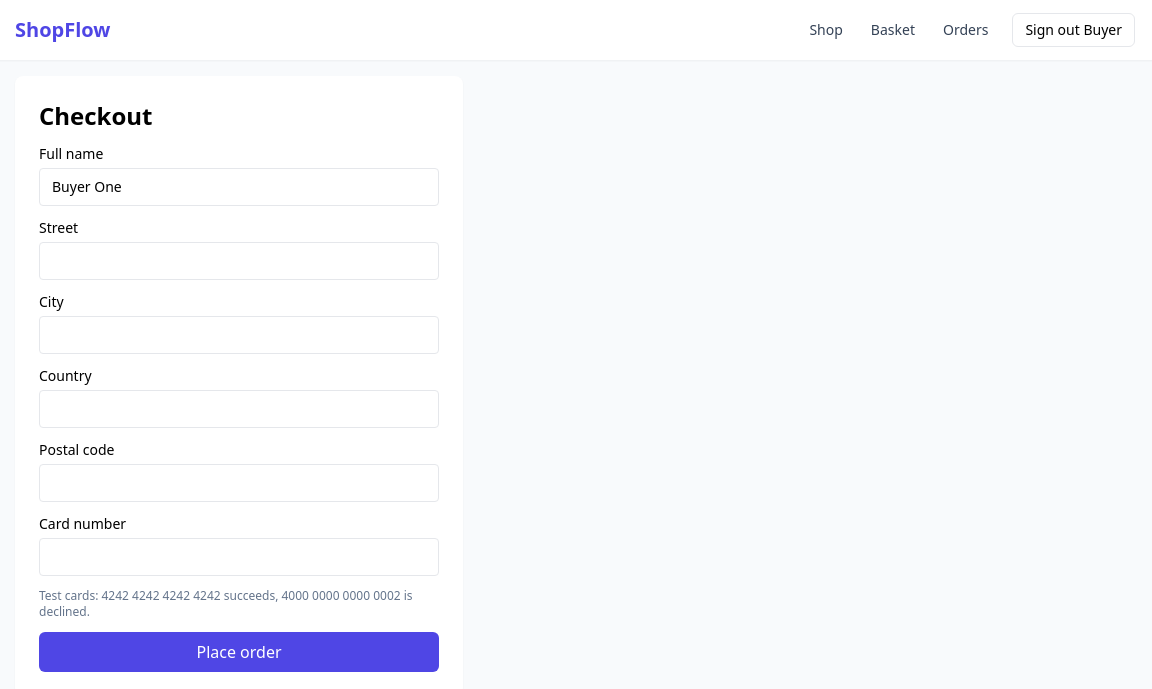
basket and checkout › places an order and follows it to confirmation
Step 1. Type "1 Main" into the field labelled "Street" → (239, 261), box [39,242,439,280]
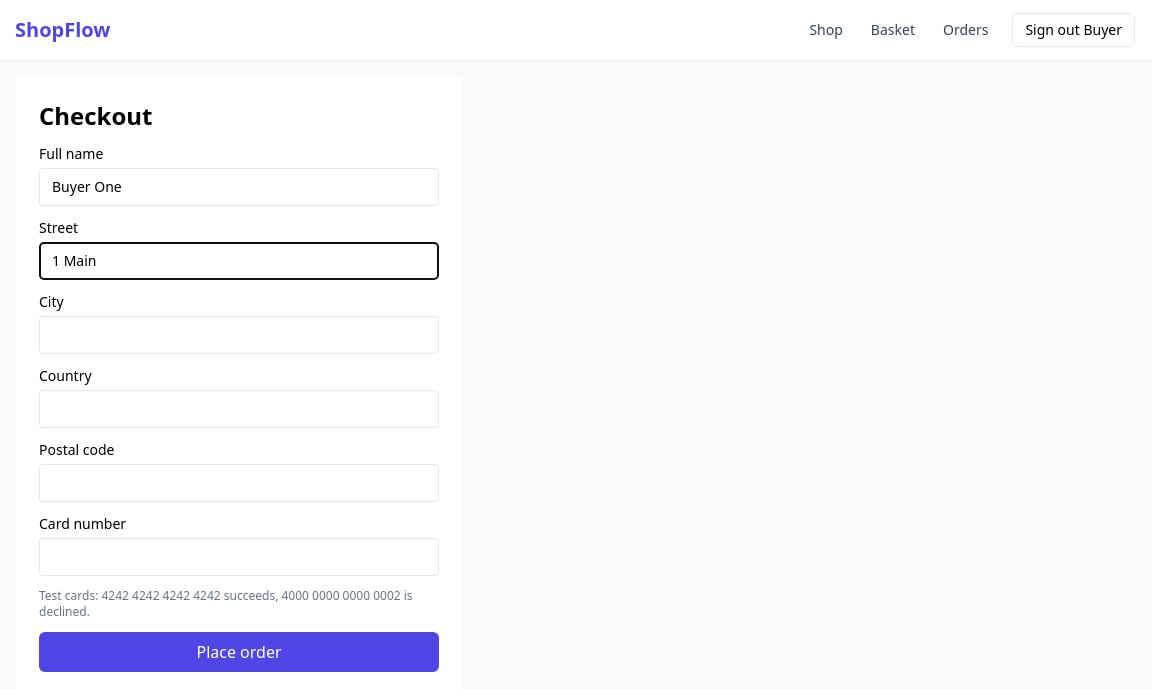
Step 2. Type "Isb" into the field labelled "City" → (239, 335), box [39,316,439,354]
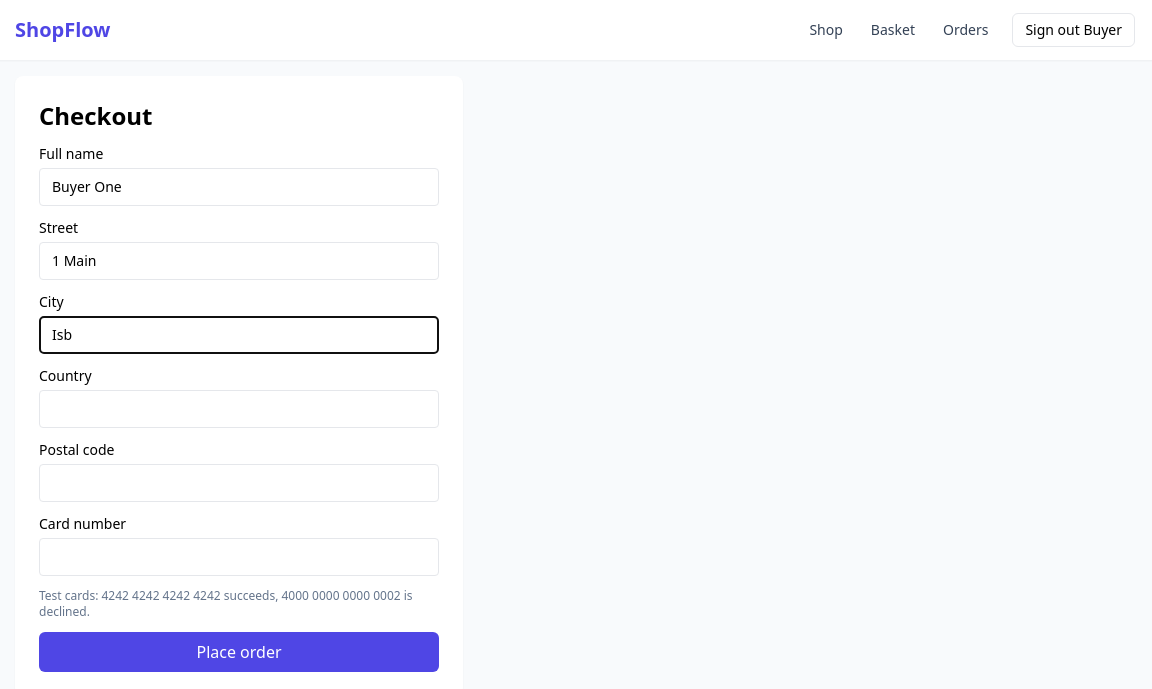
Step 3. Type "PK" into the field labelled "Country" → (239, 409), box [39,390,439,428]
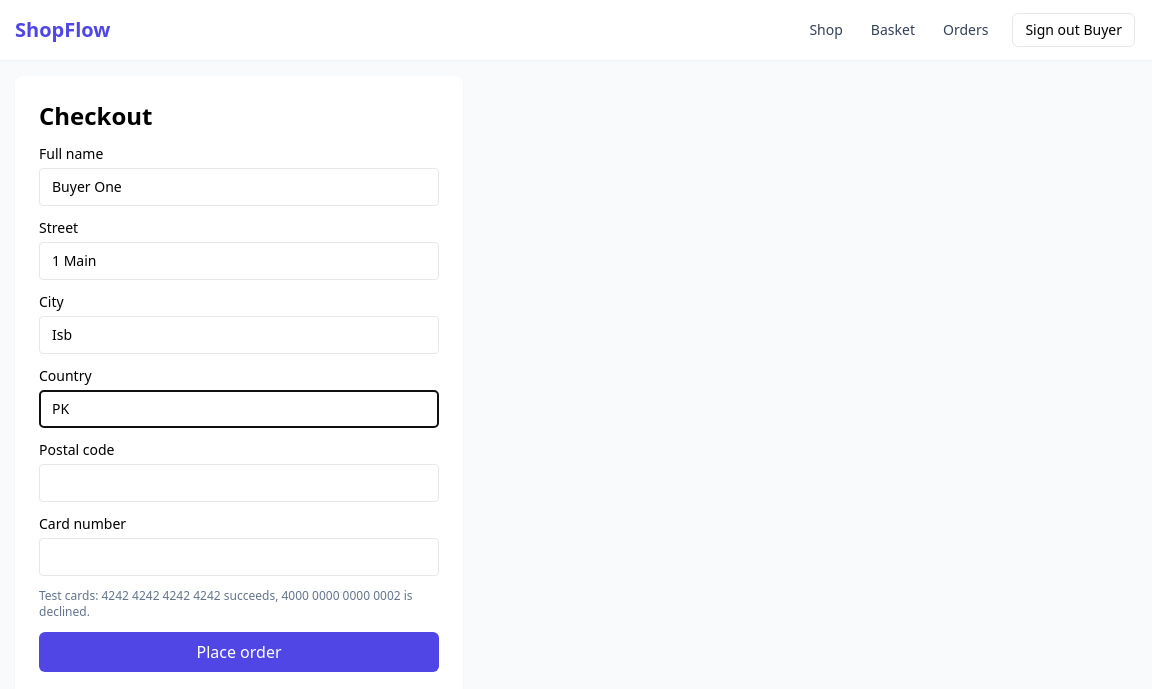
Step 4. Type "44000" into the field labelled "Postal code" → (239, 483), box [39,464,439,502]
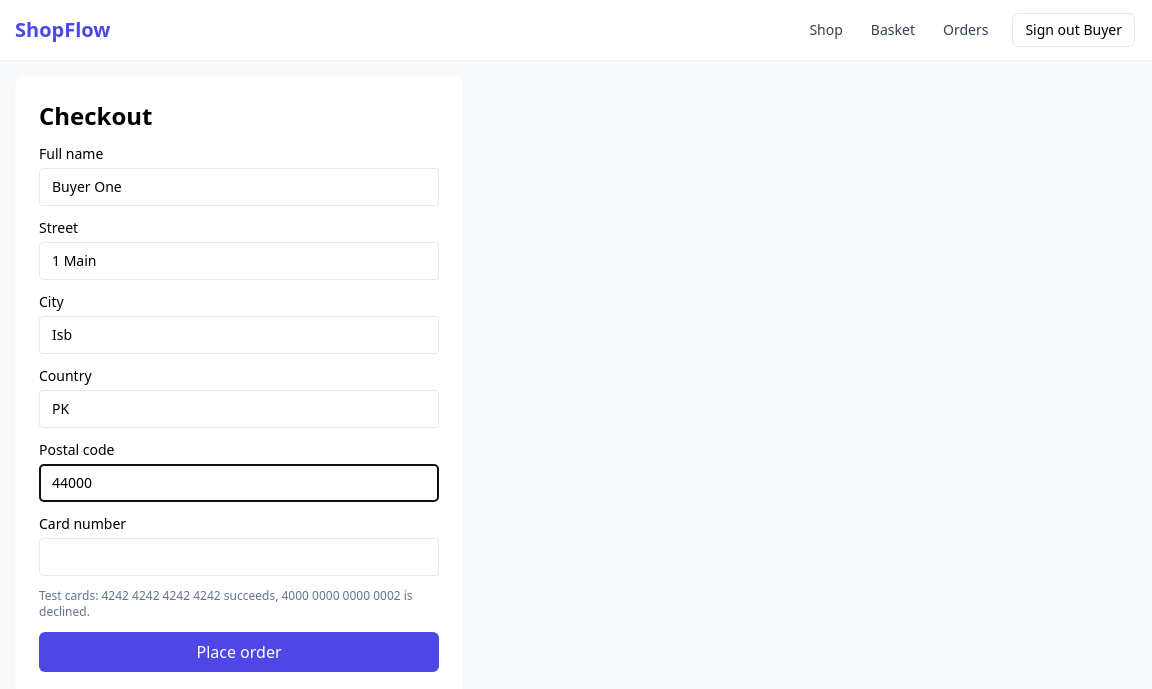
Step 5. Type "4242 4242 4242 4242" into the field labelled "Card number" → (239, 557), box [39,538,439,576]
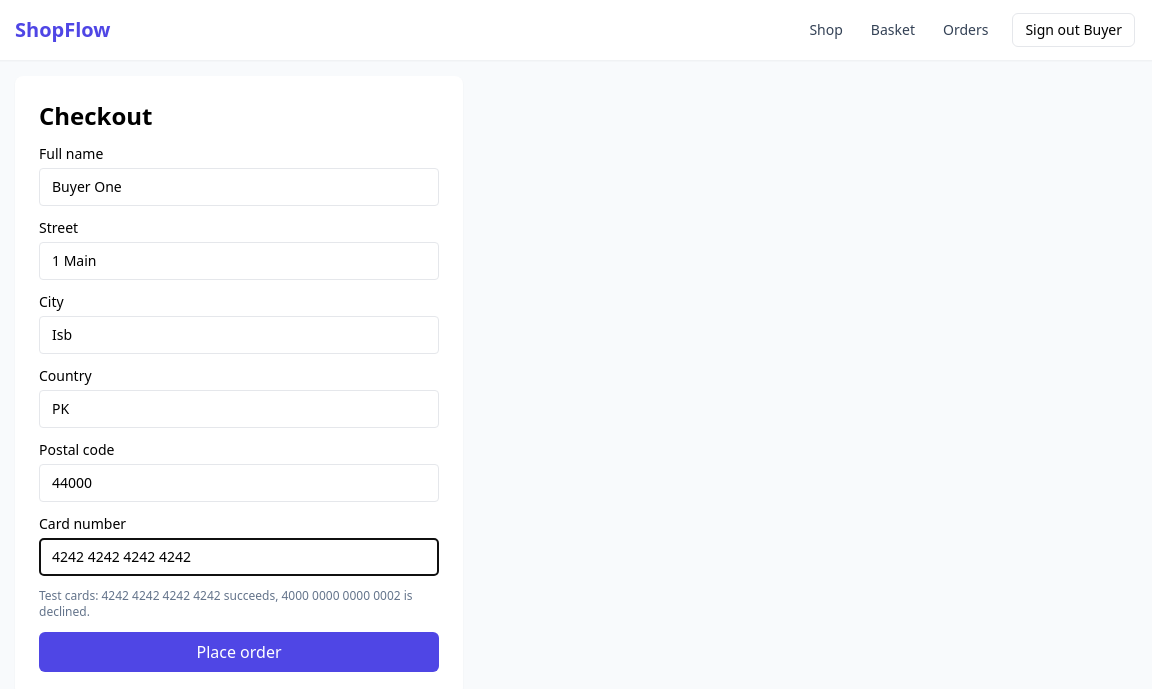
Step 6. Click the button "Place order" → (239, 652), box [39,632,439,672]
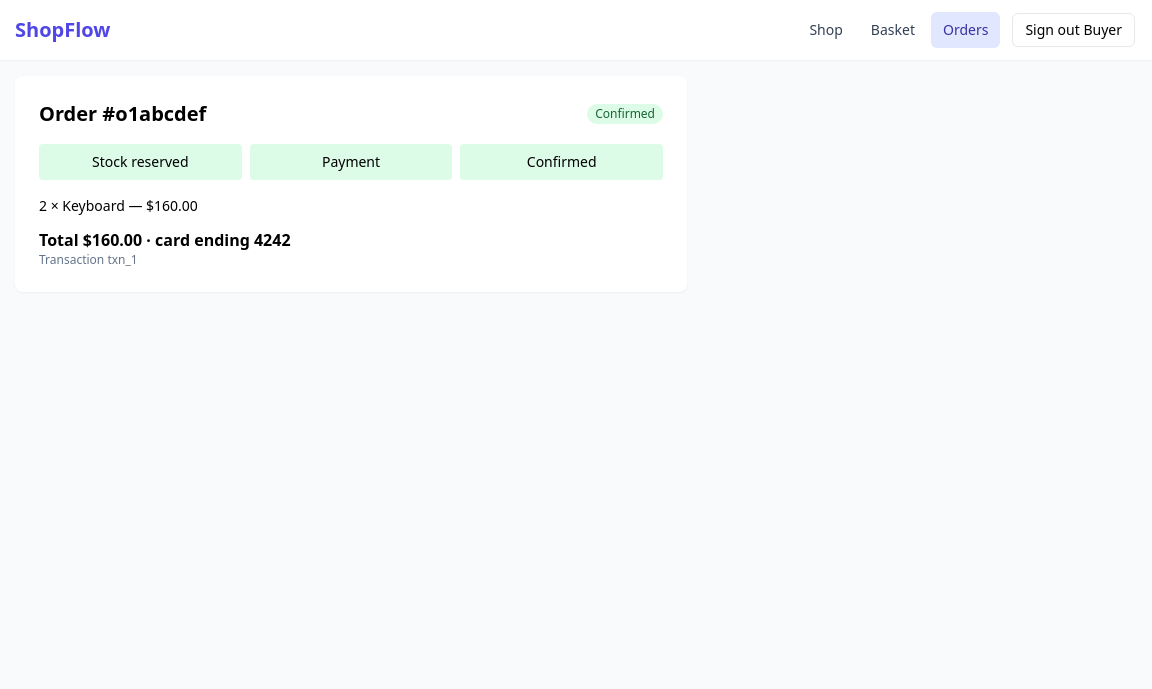
expect the text "Transaction txn_1" is shown: met, box [39,251,138,268]
